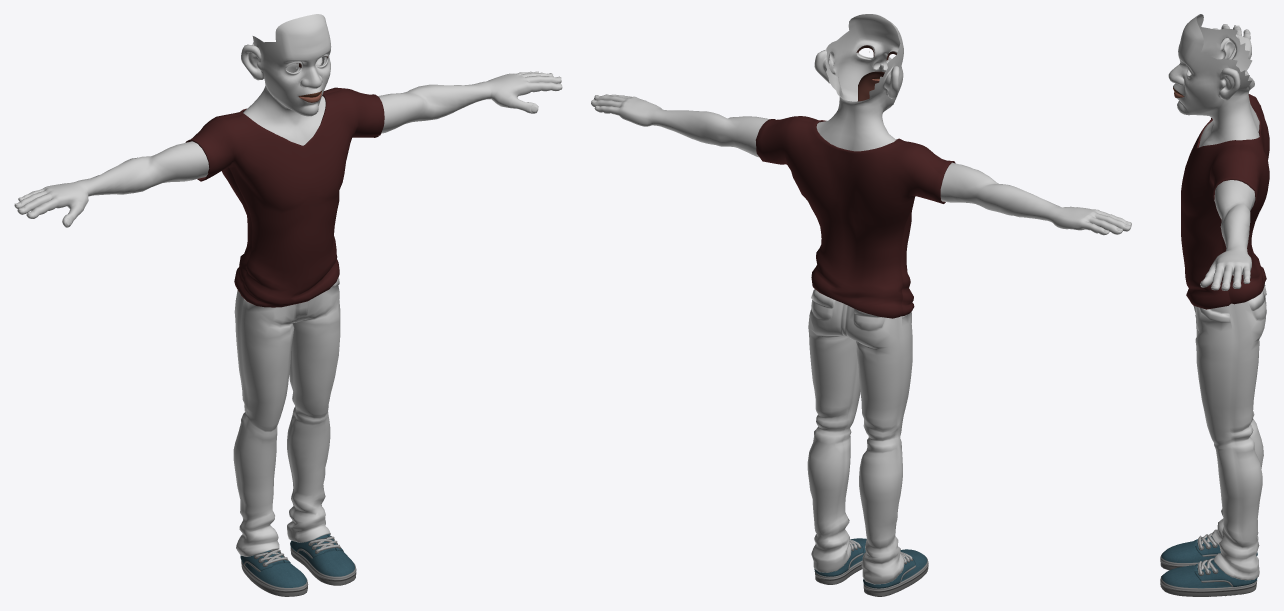
Rendered from SnowSquelette.fbx.
The picture shows the model from 3 angles, left to right: view 1: azimuth 30°, elevation 25°; view 2: azimuth 150°, elevation 25°; view 3: azimuth 270°, elevation 25°; orthographic projection.
Parts seen in each view (by area): view 1: GEO-snow_shirt, GEO-snow_pants, GEO-snow_body, GEO-snow_head, GEO-snow_shoes_base, GEO-snow_shoes_parts; view 2: GEO-snow_pants, GEO-snow_shirt, GEO-snow_body, GEO-snow_head, GEO-snow_shoes_base, GEO-snow_shoes_parts; view 3: GEO-snow_pants, GEO-snow_shirt, GEO-snow_head, GEO-snow_body, GEO-snow_shoes_base, GEO-snow_shoes_parts.
Boxes of the visible parts, <box> form: GEO-snow_shirt: <box>185,87,384,307</box>; GEO-snow_pants: <box>233,277,340,556</box>; GEO-snow_body: <box>14,71,562,227</box>; GEO-snow_head: <box>241,14,331,145</box>; GEO-snow_shoes_base: <box>241,534,356,596</box>; GEO-snow_shoes_parts: <box>240,534,343,571</box>; GEO-snow_pants: <box>807,289,912,584</box>; GEO-snow_shirt: <box>755,116,955,318</box>; GEO-snow_body: <box>591,94,1131,235</box>; GEO-snow_head: <box>814,14,903,151</box>; GEO-snow_shoes_base: <box>814,538,928,596</box>; GEO-snow_shoes_parts: <box>814,539,916,588</box>; GEO-snow_pants: <box>1193,283,1266,580</box>; GEO-snow_shirt: <box>1181,94,1269,309</box>; GEO-snow_head: <box>1168,14,1259,147</box>; GEO-snow_body: <box>1200,24,1255,290</box>; GEO-snow_shoes_base: <box>1160,536,1257,596</box>; GEO-snow_shoes_parts: <box>1194,533,1257,587</box>.
Size of the model in its own units: 179 by 177 by 31.49.
